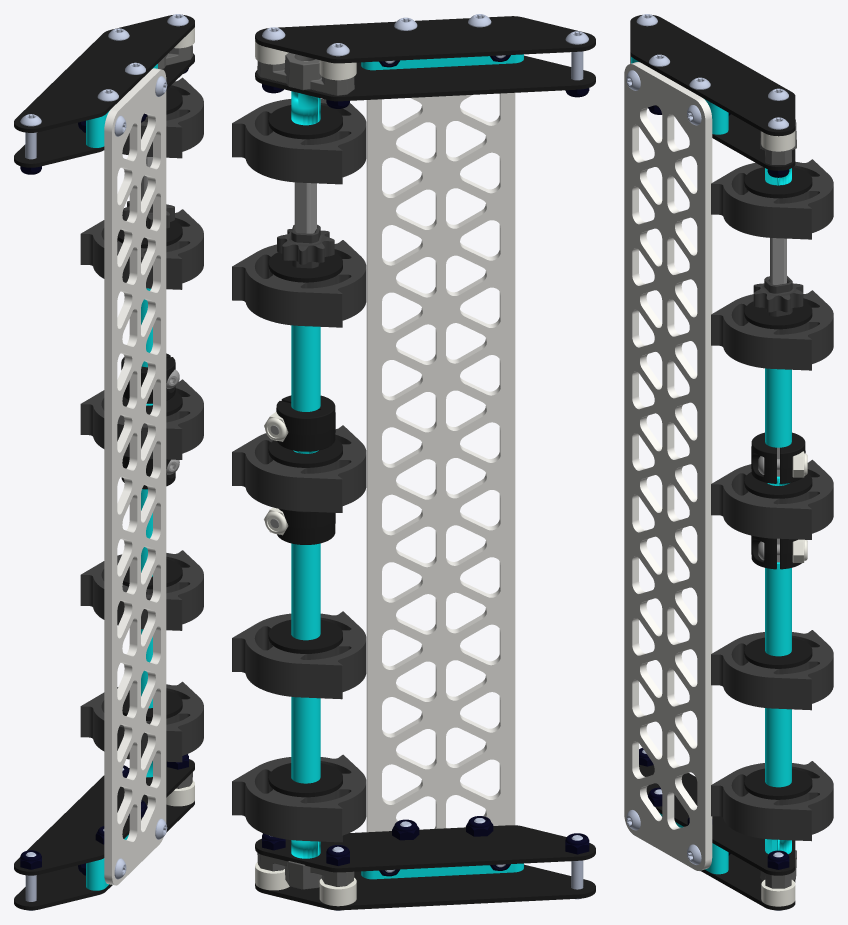
Rendered from Front Roller Assembly.fbx.
3 renders of one model, left to right at view 1: azimuth 30°, elevation 25°; view 2: azimuth 150°, elevation 25°; view 3: azimuth 270°, elevation 25°, orthographic. The views are drawn at different scales.
Parts seen in each view (by area): view 1: Body1 (×12), Body4 (×4), Body3 (×5); view 2: Body1 (×17), Body4 (×4), Body3 (×6), Body2; view 3: Body1 (×17), Body4 (×4), Body3 (×7).
Boxes of the visible parts, x1,y1,x2,y2 form: Body1 (×12): [20, 45, 203, 890]; Body4 (×4): [14, 14, 194, 910]; Body3 (×5): [117, 220, 194, 806]; Body1 (×17): [232, 52, 523, 889]; Body4 (×4): [255, 16, 595, 910]; Body3 (×6): [268, 105, 356, 906]; Body2: [291, 91, 320, 125]; Body1 (×17): [624, 57, 833, 888]; Body4 (×4): [630, 15, 795, 910]; Body3 (×7): [744, 130, 812, 906].
Bounding box in the file's own units: 4.21 × 12.8 × 3.08.
